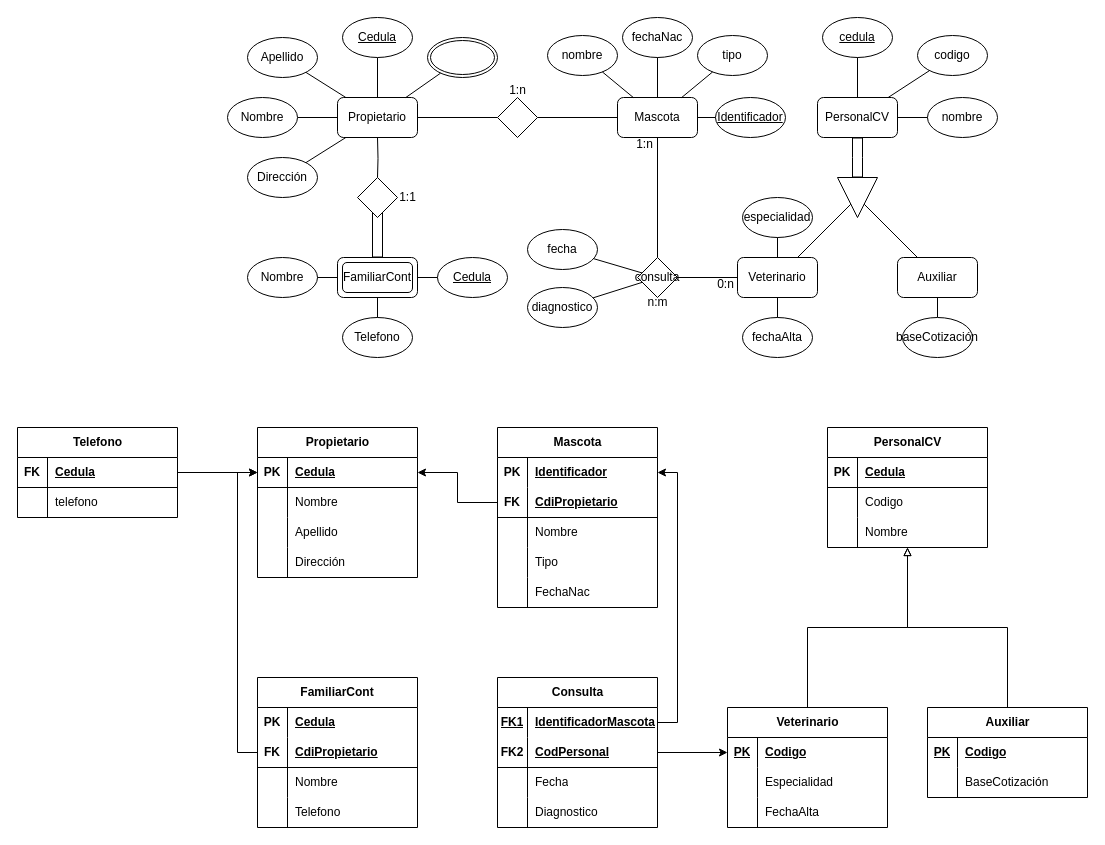
Some shapes in this 1105 by 845 pixel diagram are drawn without their labels. Each missing label, with the box of its shape:
llevar: (496, 96, 538, 138)
Telefonos: (426, 36, 498, 78)
tiene: (356, 176, 398, 218)
